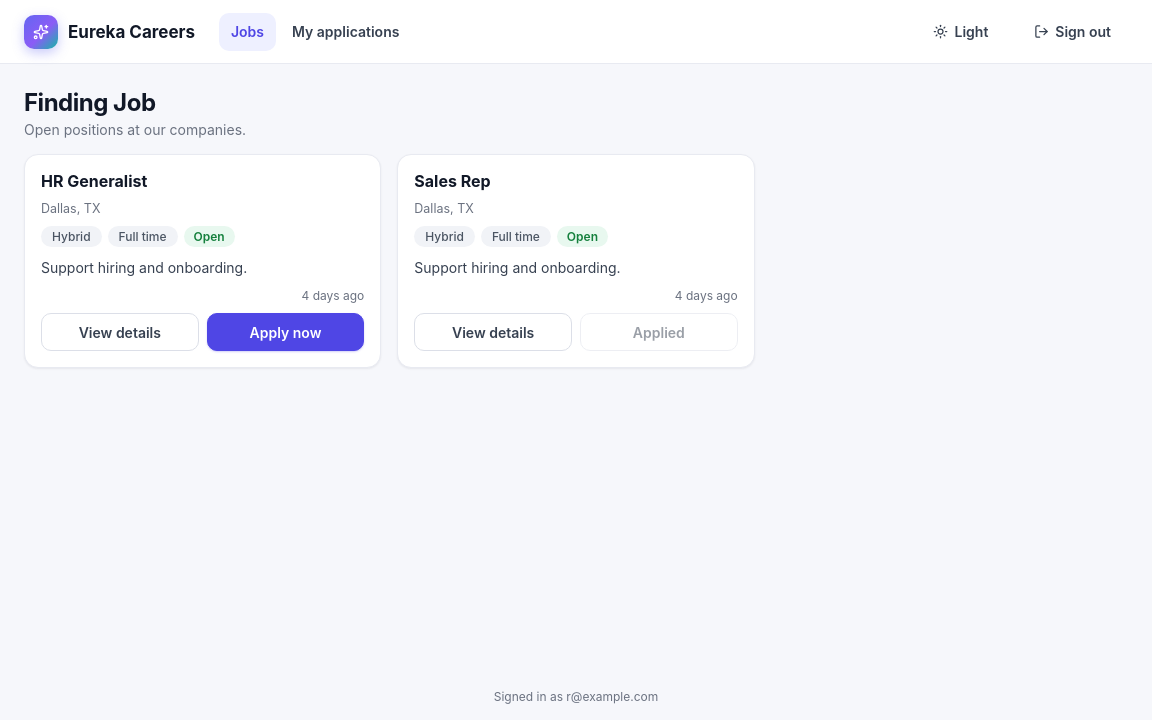
portal screens › View details shows the description as text
Click the button with aria-label "View details of HR Generalist" at {"x": 120, "y": 332}, box [41,313,199,351]
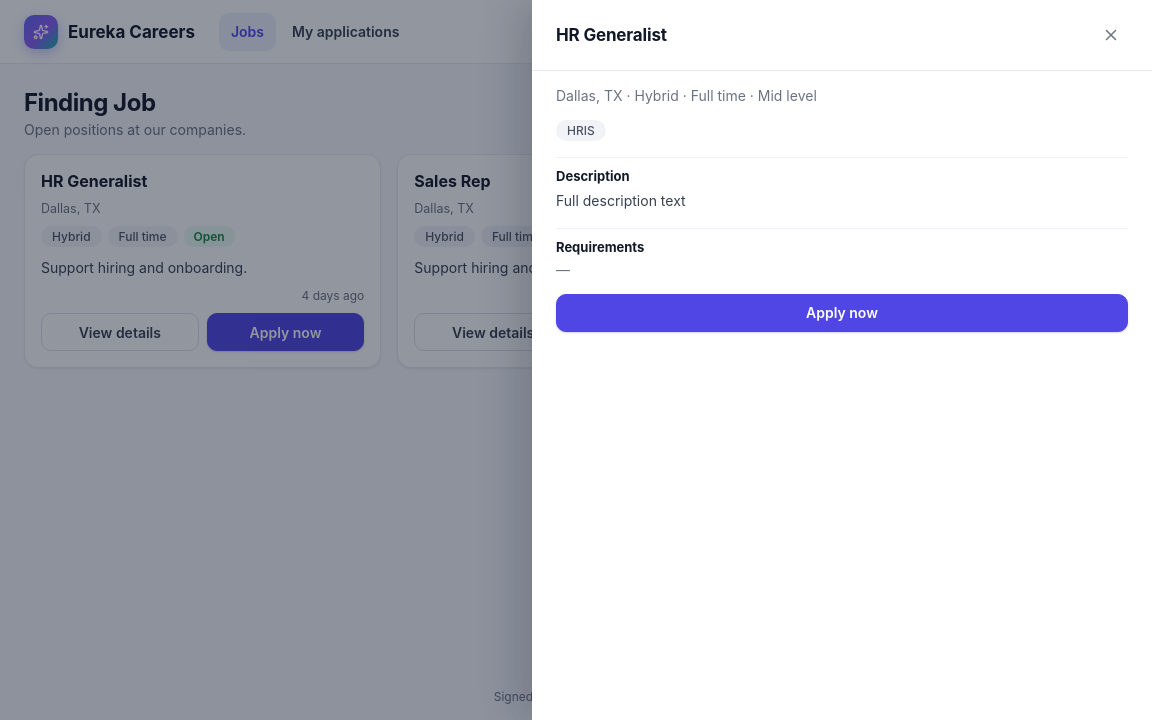
Now the text "Full description text" is shown, box [556,192,686,209]
